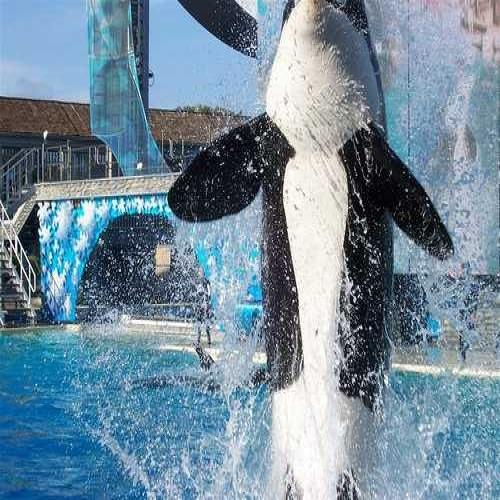killer_whale-endangered: (199, 0, 452, 474)
